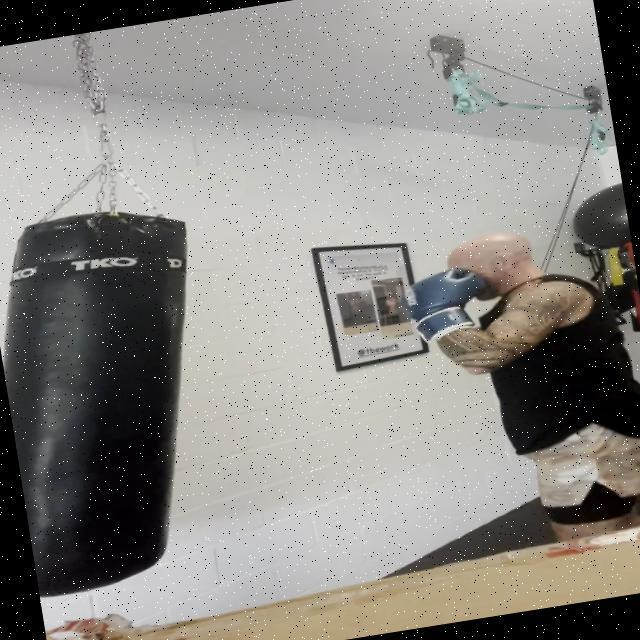bag: (0, 185, 243, 598)
no punch: (362, 209, 638, 388)
